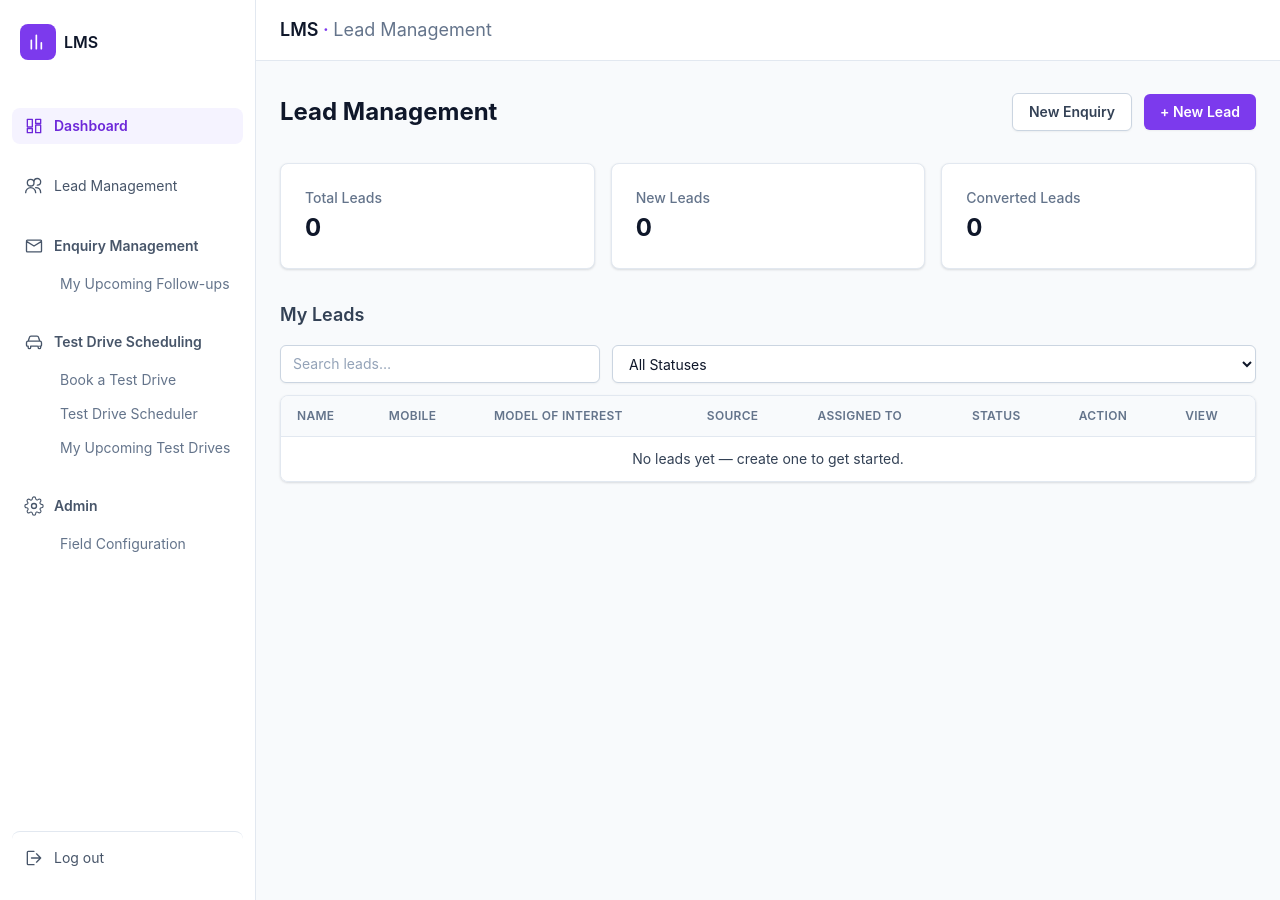
Test: LeadManagementPage entry point / feature toggle (CC-10) › New Lead slide-over panel (issue #118) › AC1/AC2: clicking "New Lead" opens the panel without navigating away — the page stays mounted underneath
The width and height of the screenshot is (1280, 900).
Expected: the heading "Lead Management" is shown, x1=280 y1=96 x2=497 y2=128
Expected: the table named "my leads" is shown, x1=281 y1=396 x2=1255 y2=481
Click the button "+ New Lead": (1200, 112) x1=1144 y1=94 x2=1256 y2=130
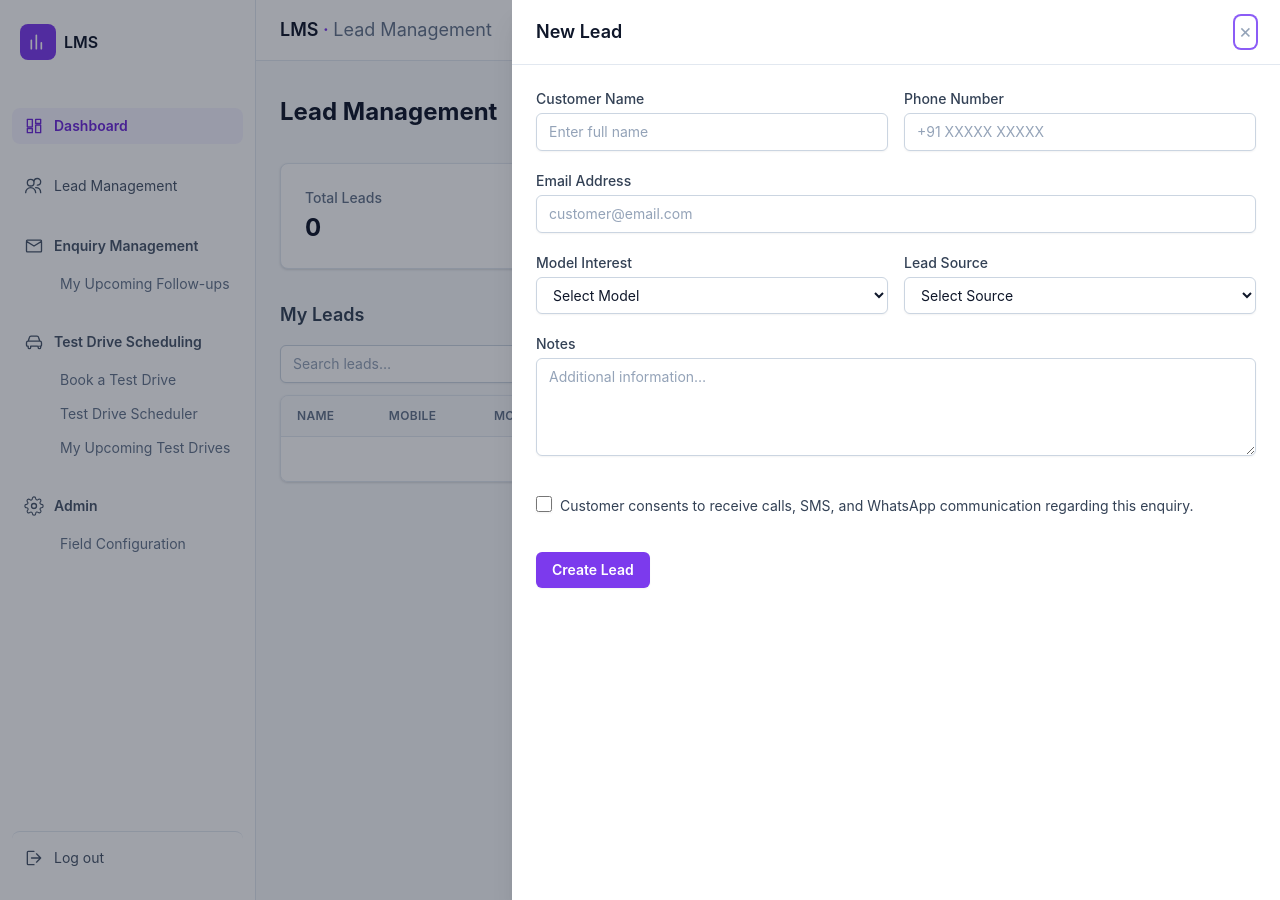
Expected: the heading "Lead Management" is shown, x1=280 y1=96 x2=497 y2=128
Now the dialog "New Lead" is shown, box x1=512 y1=0 x2=1279 y2=899
Now the field labelled "Customer Name" is shown, box x1=536 y1=113 x2=888 y2=151
